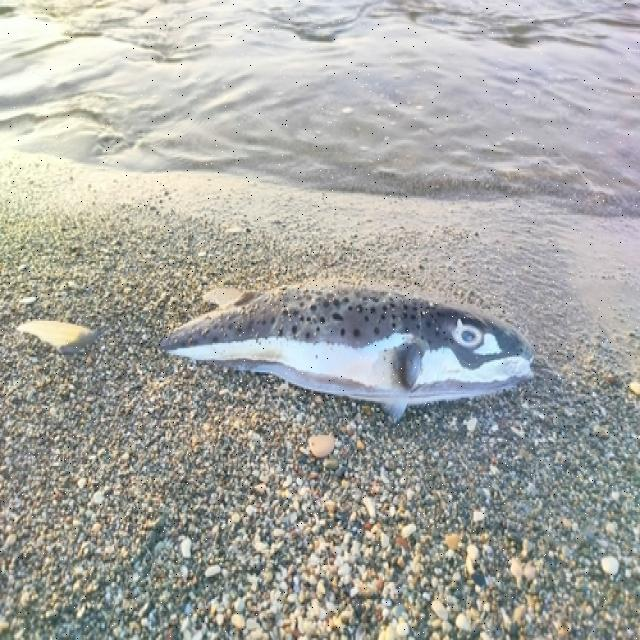Balik: (162, 289, 533, 419)
